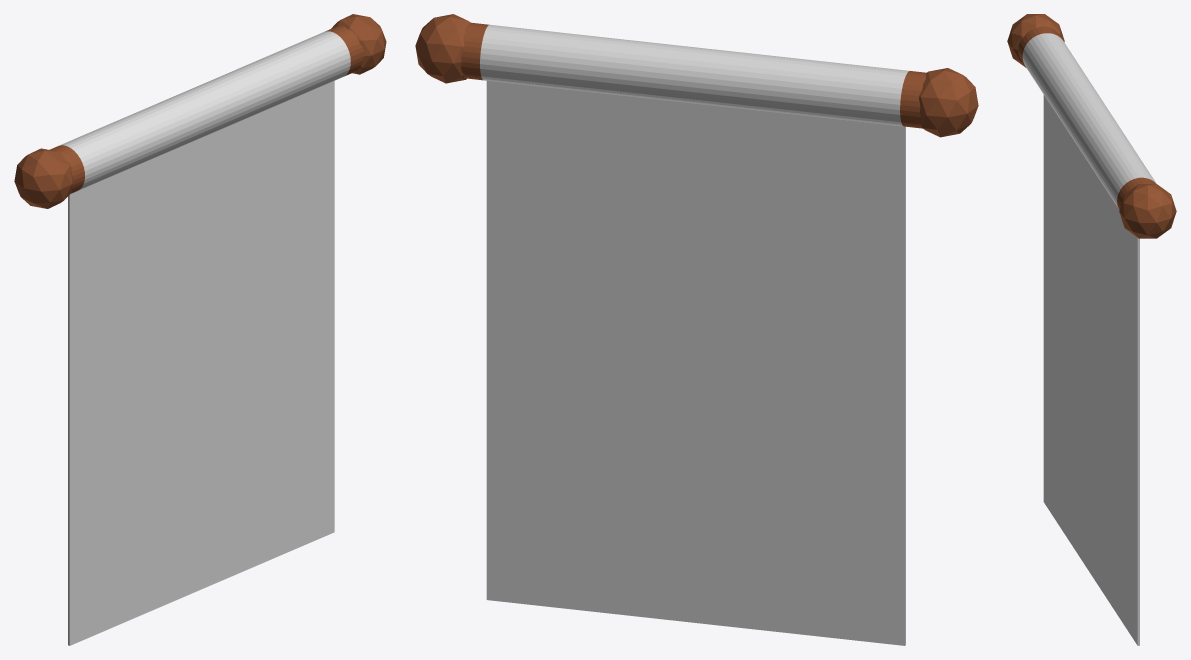
Rendered from scroll.glb.
3 views of the same model, side by side, from view 1: azimuth 30°, elevation 25°; view 2: azimuth 150°, elevation 25°; view 3: azimuth 270°, elevation 25° (orthographic). The views are drawn at different scales.
Parts seen in each view (by area): view 1: Scroll; view 2: Scroll; view 3: Scroll.
Part boxes in pixels (x1,y1,x2,y2): Scroll: [14, 14, 386, 645]; Scroll: [415, 14, 978, 645]; Scroll: [1007, 14, 1176, 645].
Size of the model in its own units: 11.96 by 13.67 by 4.43.
